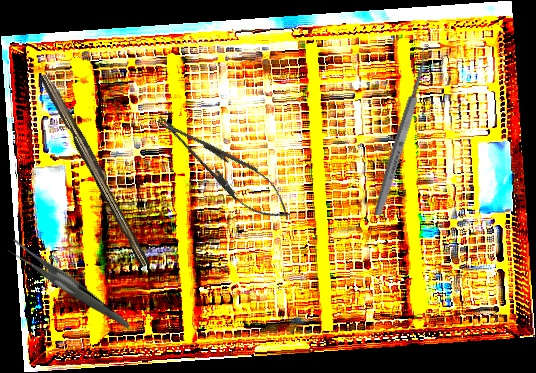Dressing Forceps: (4, 214, 131, 358)
Needle Holder: (147, 103, 301, 232)
Scalpel Handle: (36, 70, 156, 269)
Surgical Spoon: (371, 47, 435, 217)
